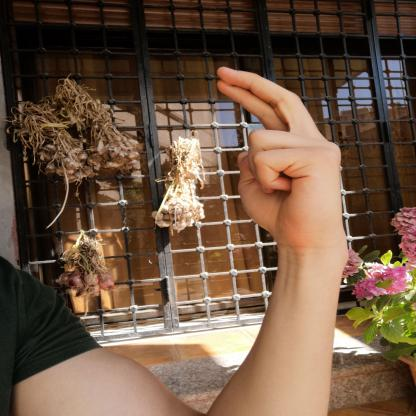ZAY: (202, 61, 351, 252)
